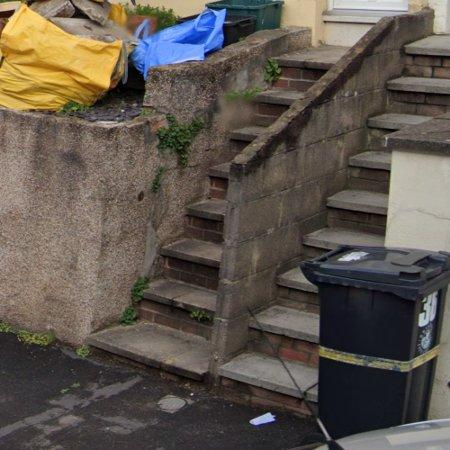stairs: (304, 35, 450, 260), (98, 161, 232, 380), (220, 267, 320, 416), (232, 48, 348, 158)
